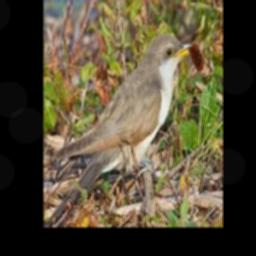Cuckoo: (46, 35, 192, 227)
